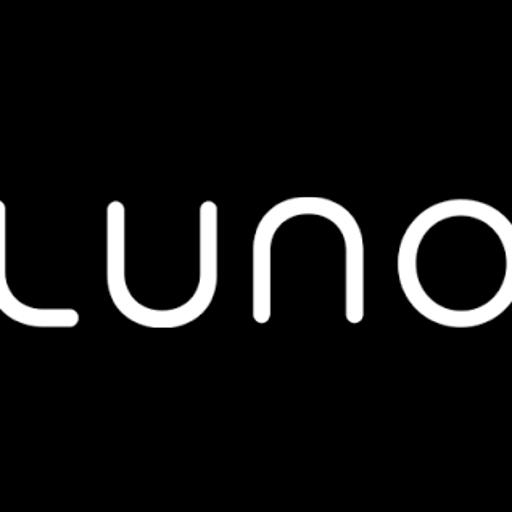Luno: (0, 128, 512, 384)
